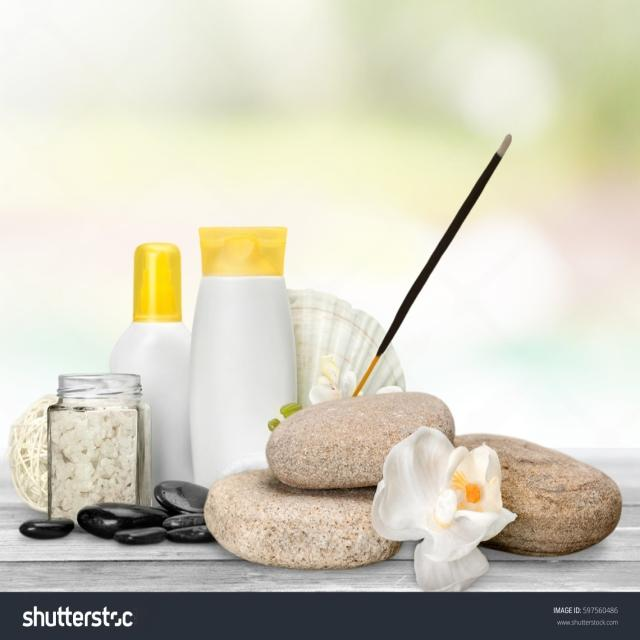Agarbatti: (344, 112, 515, 397)
